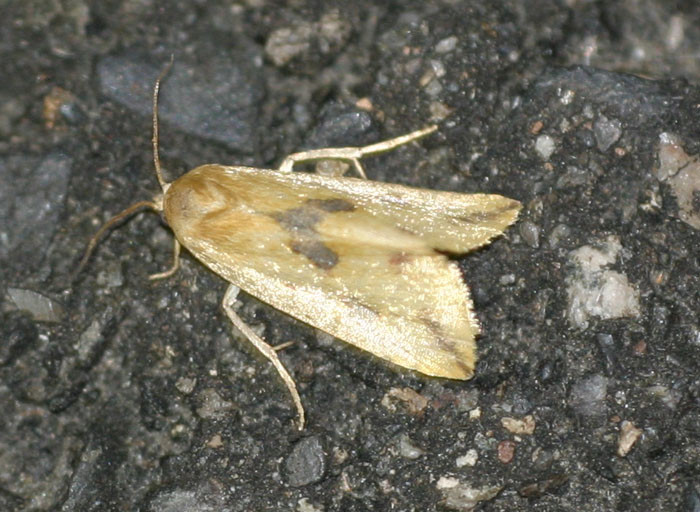Noctuidae: (70, 82, 526, 441)
